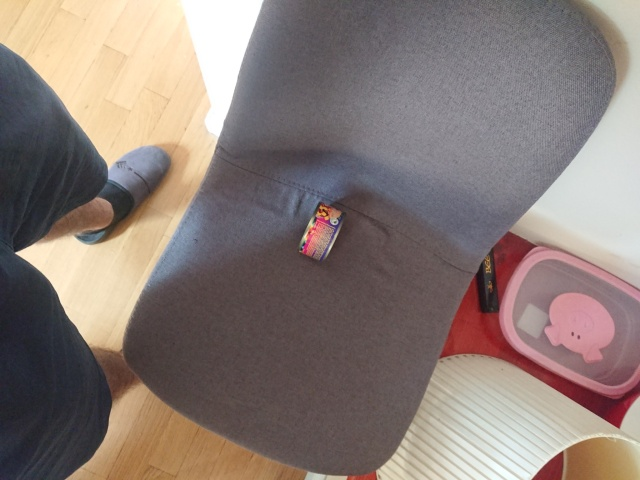Giana Tuna Salad Mexico 185g: (296, 199, 349, 264)
